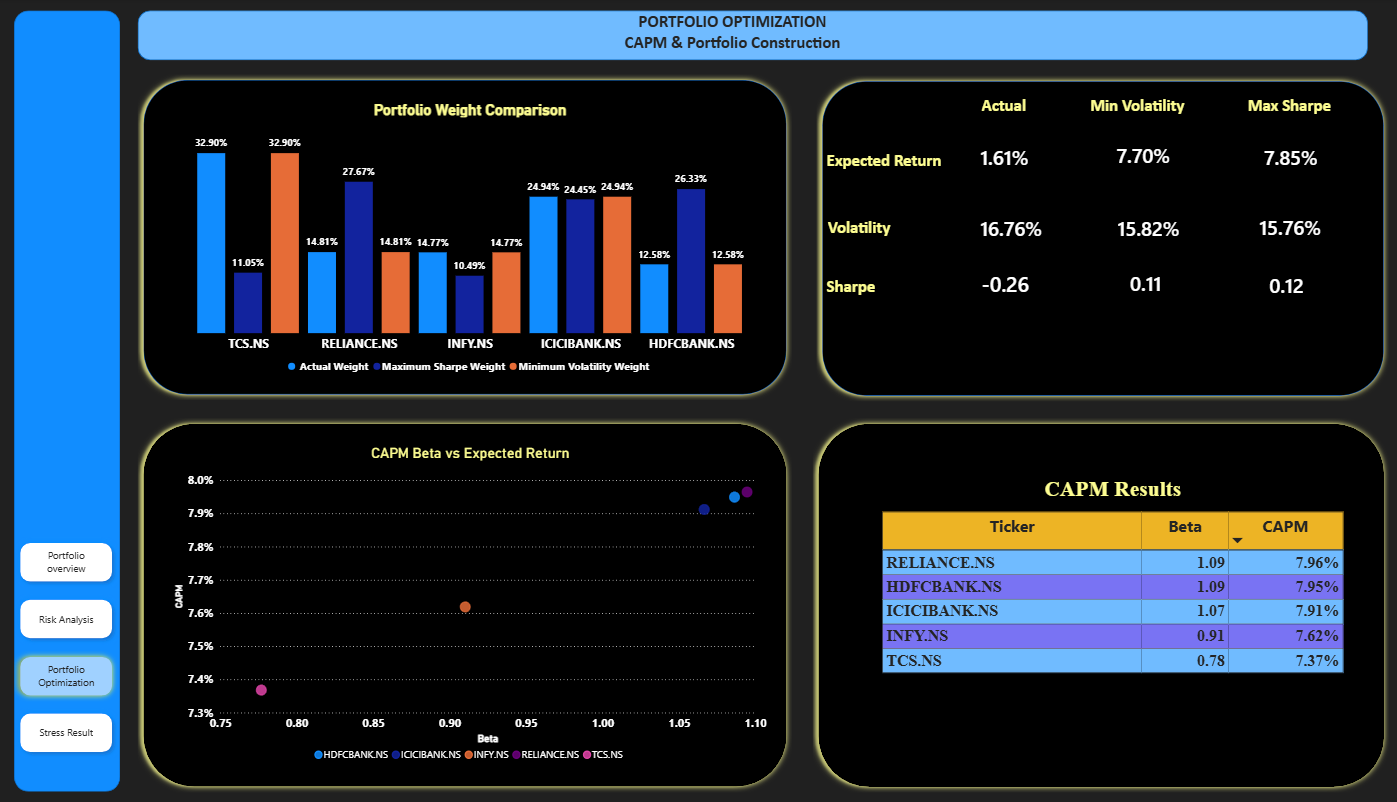

This screenshot's page, from the dashboard's own definition file:
{"tool":"powerbi","page":{"name":"Portfolio Optimization","canvas":[2000,1150],"ordinal":2},"visuals":[{"type":"shape","box":[21.4,17.8,151.6,1114.7],"z":0},{"type":"shape","box":[198,18.2,1755.1,70.9],"z":500},{"type":"shape","box":[198,109,933.9,465.1],"z":750},{"type":"textbox","box":[781.3,18.2,530.5,72.7],"z":1000},{"type":"shape","box":[1166.4,110.8,817.6,465.1],"z":1500},{"type":"clusteredColumnChart","title":"Portfolio Weight Comparison","fields":{"Category":["public optimization_results.ticker"],"Y":["Sum(public optimization_results.actual_weight)","Sum(public optimization_results.maximum_sharpe_weight)","Sum(public optimization_results.minimum_volatility_weight)"]},"box":[233.6,132,877.5,424.5],"z":2000},{"type":"textbox","box":[1181.4,216,186,33.8],"z":3000},{"type":"textbox","box":[1181.9,311.4,150.3,31.9],"z":4000},{"type":"textbox","box":[1181.4,396.3,186,33.8],"z":5000},{"type":"textbox","box":[1401.2,137.1,107.1,33.8],"z":6000},{"type":"textbox","box":[1557.1,137.1,159.7,33.8],"z":7000},{"type":"textbox","box":[1782.5,137.1,152.1,33.8],"z":8000},{"type":"cardVisual","fields":{"Data":["Sum(public optimization_results.actual_expected_return)"]},"box":[1383.5,205.6,107.8,43.9],"z":9000},{"type":"cardVisual","fields":{"Data":["Sum(public optimization_results.actual_sharpe)"]},"box":[1385.5,383.3,121.8,47.9],"z":10000},{"type":"cardVisual","fields":{"Data":["Sum(public optimization_results.actual_volatility)"]},"box":[1383.5,303.5,121.8,49.9],"z":11000},{"type":"cardVisual","fields":{"Data":["Sum(public optimization_results.minimum_volatility_expected_return)"]},"box":[1578.9,198,137.8,51.9],"z":12000},{"type":"cardVisual","fields":{"Data":["Sum(public optimization_results.minimum_volatility)"]},"box":[1578.9,303.4,123.8,49.9],"z":13000},{"type":"cardVisual","fields":{"Data":["Sum(public optimization_results.minimum_volatility_sharpe)"]},"box":[1593.4,381.5,87.8,51.9],"z":14000},{"type":"cardVisual","fields":{"Data":["Sum(public optimization_results.maximum_sharpe_expected_return)"]},"box":[1782.8,197.6,119.8,59.9],"z":15000},{"type":"cardVisual","fields":{"Data":["Sum(public optimization_results.maximum_sharpe_volatility)"]},"box":[1776.8,299.5,131.8,53.9],"z":16000},{"type":"shape","box":[198,599.6,933.9,534.2],"z":16500},{"type":"cardVisual","fields":{"Data":["Sum(public optimization_results.maximum_sharpe_sharpe)"]},"box":[1782.8,377.3,107.8,61.9],"z":17000},{"type":"scatterChart","title":"CAPM Beta vs Expected Return","fields":{"Series":["public capm_results.ticker"],"X":["public capm_results.beta"],"Y":["public capm_results.capm_expected_return"]},"box":[233,623,877.7,487.6],"z":18000},{"type":"shape","box":[1161.2,599.6,823.5,534.6],"z":18500},{"type":"tableEx","title":"CAPM Results","fields":{"Values":["public capm_results.ticker","public capm_results.beta","public capm_results.capm_expected_return"]},"box":[1243,668.6,692.2,383.4],"z":19000},{"type":"pageNavigator","box":[21.4,768.7,149.2,318.5],"z":19001}]}

Visuals, with their boxes on the page's 2000x1150 design canvas (x1, y1, x2, y2). These are canvas units, not pixel positions in the 1397x802 screenshot, which may show the page scaled, cropped or inside an application window:
shape: 21,18,173,1132
shape: 198,18,1953,89
shape: 198,109,1132,574
textbox: 781,18,1312,91
shape: 1166,111,1984,576
"Portfolio Weight Comparison" clusteredColumnChart: 234,132,1111,556
textbox: 1181,216,1367,250
textbox: 1182,311,1332,343
textbox: 1181,396,1367,430
textbox: 1401,137,1508,171
textbox: 1557,137,1717,171
textbox: 1782,137,1935,171
cardVisual - Sum(public optimization_results.actual_expected_return): 1384,206,1491,250
cardVisual - Sum(public optimization_results.actual_sharpe): 1386,383,1507,431
cardVisual - Sum(public optimization_results.actual_volatility): 1384,304,1505,353
cardVisual - Sum(public optimization_results.minimum_volatility_expected_return): 1579,198,1717,250
cardVisual - Sum(public optimization_results.minimum_volatility): 1579,303,1703,353
cardVisual - Sum(public optimization_results.minimum_volatility_sharpe): 1593,382,1681,433
cardVisual - Sum(public optimization_results.maximum_sharpe_expected_return): 1783,198,1903,258
cardVisual - Sum(public optimization_results.maximum_sharpe_volatility): 1777,300,1909,353
shape: 198,600,1132,1134
cardVisual - Sum(public optimization_results.maximum_sharpe_sharpe): 1783,377,1891,439
"CAPM Beta vs Expected Return" scatterChart: 233,623,1111,1111
shape: 1161,600,1985,1134
"CAPM Results" tableEx: 1243,669,1935,1052
pageNavigator: 21,769,171,1087
